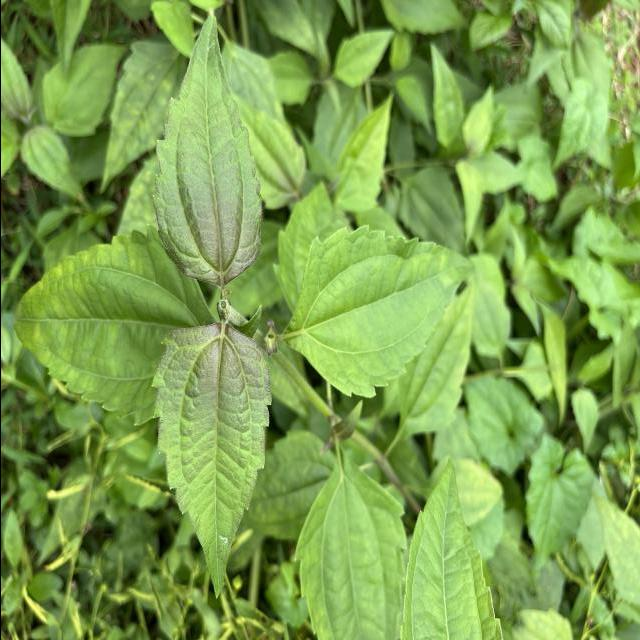Chromolaena odorata: (146, 319, 276, 603)
